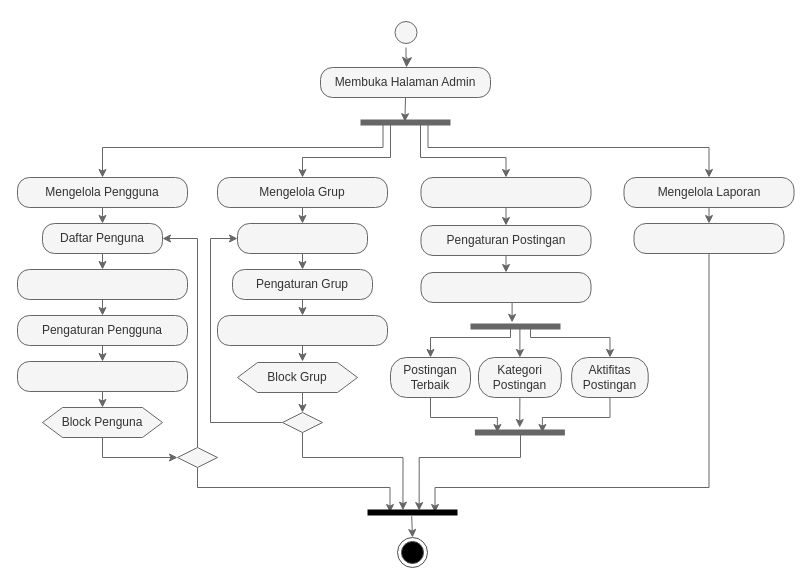
Image size: 812x585. Some labels were removed from this diagram. The centre of each missing label's shape, as x and y in pixels:
"Dafrar Grup" belongs at [302,238].
"Daftar Postingan" belongs at [505,287].
"Meliat Aktifitas Grup" belongs at [302,330].
"Melihat Aktifitas Pengguna" belongs at [102,376].
"Menambah Pengguna Baru" belongs at [102,284].
"Mengelola Aktifitas" belongs at [708,238].
"Mengelola Postingan" belongs at [505,192].
